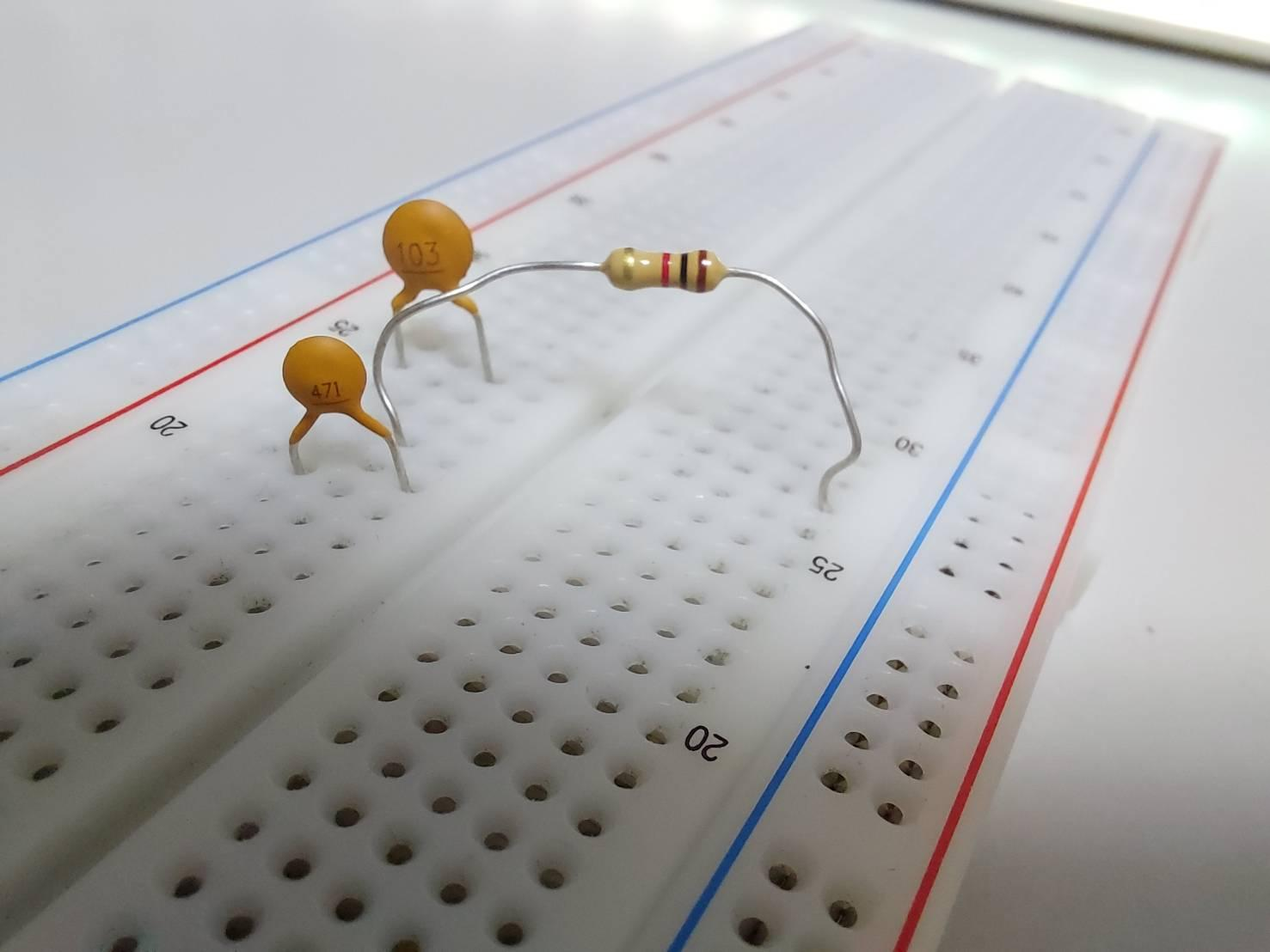resistor: (602, 240, 725, 294)
